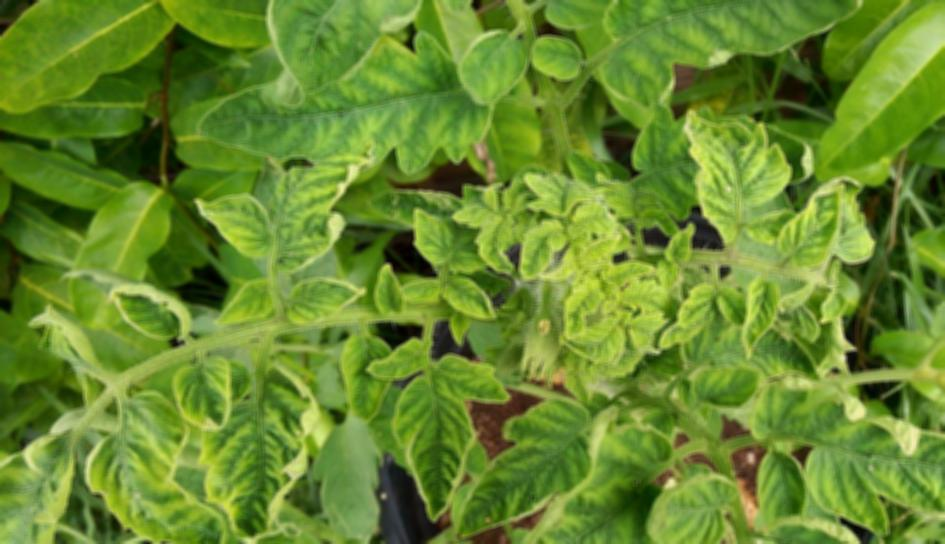Tomato leaf yellow virus: (182, 46, 505, 172), (739, 357, 945, 544), (349, 332, 527, 528), (591, 0, 861, 127), (497, 401, 712, 544), (806, 0, 945, 192), (44, 180, 173, 377), (2, 0, 184, 138), (88, 384, 239, 544), (447, 391, 606, 529), (207, 354, 320, 544), (259, 0, 441, 105), (235, 147, 364, 284), (680, 112, 798, 243), (639, 452, 751, 544), (104, 280, 194, 345), (280, 268, 365, 330), (736, 274, 784, 357), (656, 285, 717, 348), (514, 216, 567, 287), (559, 317, 631, 368), (436, 275, 502, 321), (371, 259, 407, 325)
